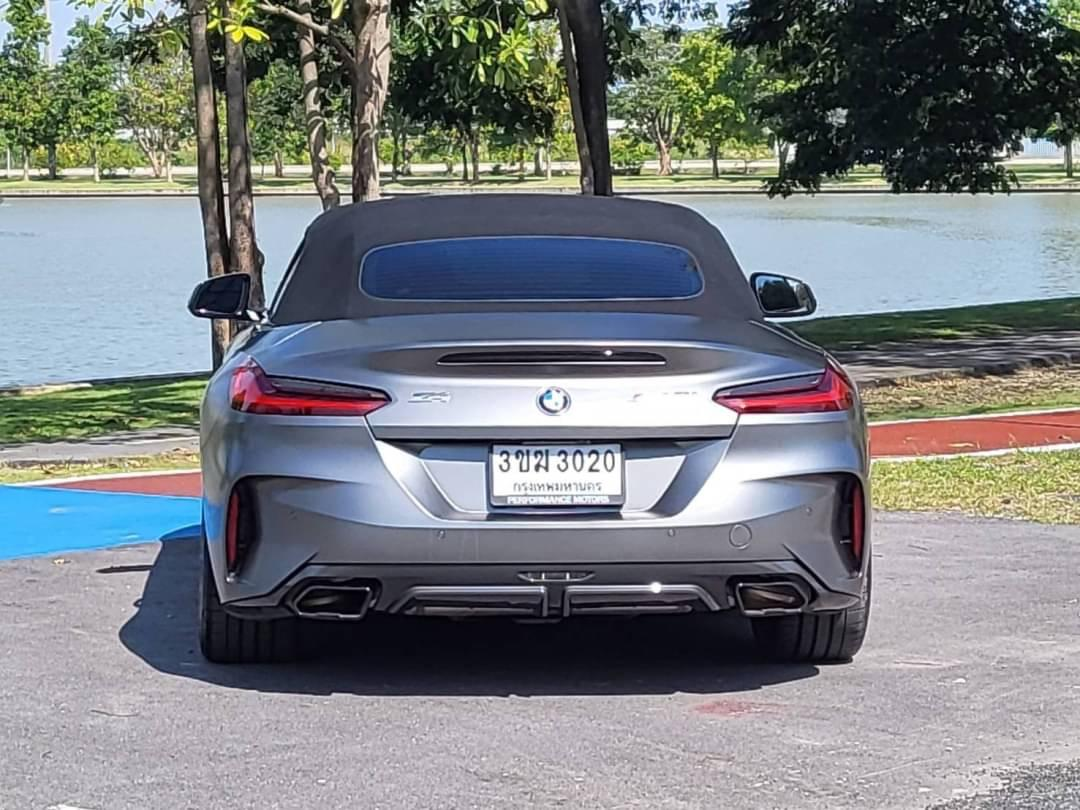license-plate: (487, 438, 628, 513)
